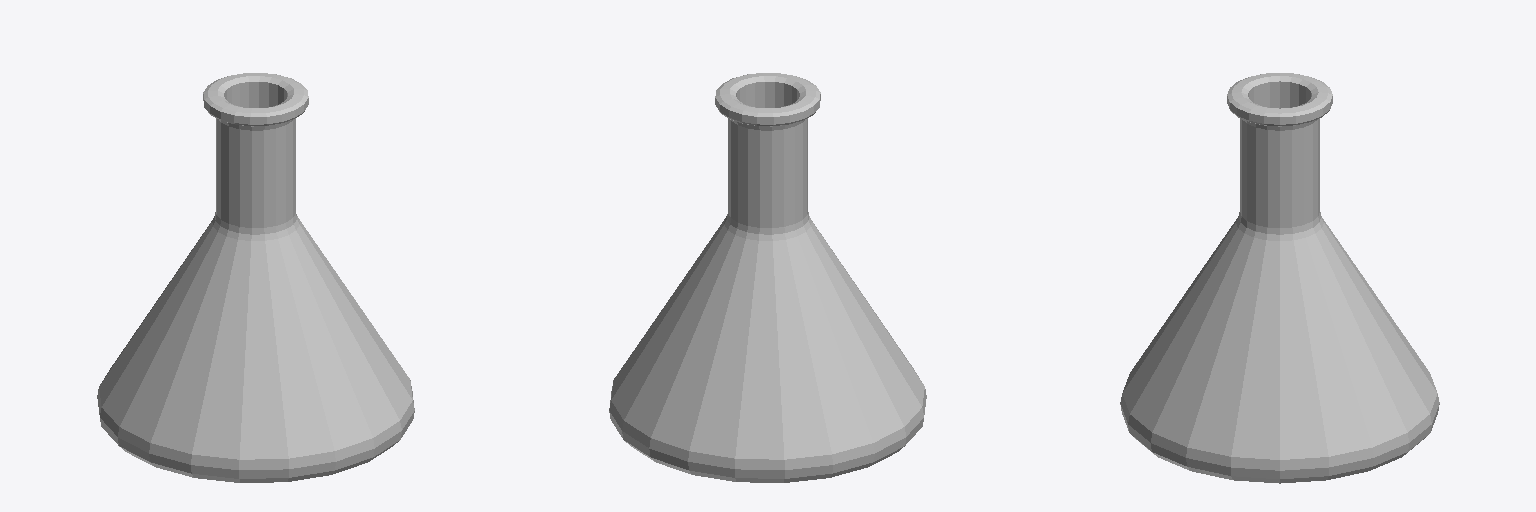
File: vial export.obj
3 renders of one model, left to right at view 1: azimuth 30°, elevation 25°; view 2: azimuth 150°, elevation 25°; view 3: azimuth 270°, elevation 25°, orthographic.
Visible parts, largest first — view 1: pCylinder3 polySurface3; view 2: pCylinder3 polySurface3; view 3: pCylinder3 polySurface3.
Boxes of the visible parts, x1,y1,x2,y2 form: pCylinder3 polySurface3: [97, 73, 414, 482]; pCylinder3 polySurface3: [609, 73, 926, 482]; pCylinder3 polySurface3: [1120, 73, 1439, 483].
Size of the model in its own units: 2.11 by 2.39 by 2.11.